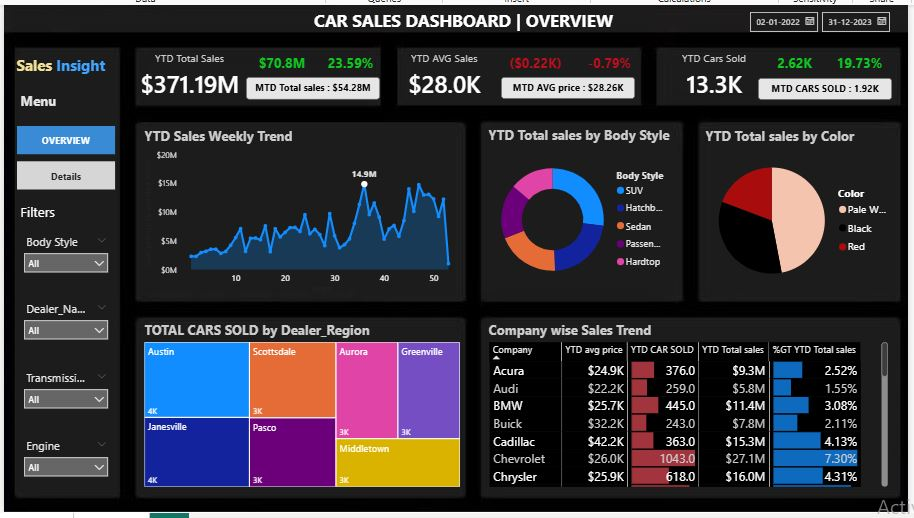

What the dashboard file says about the page in this screenshot:
{"tool":"powerbi","page":{"name":"OVERVIEW","canvas":[1280,720],"ordinal":0},"visuals":[{"type":"card","title":"YTD Total Sales ","fields":{"Values":["car_data.YTDd Total sales"]},"box":[184.7,65.3,157.7,73.9],"z":0},{"type":"card","fields":{"Values":["car_data.Sales Difference"]},"box":[352.9,65.2,82.2,36.9],"z":1000},{"type":"card","fields":{"Values":["car_data.YOY Sales Gowth"]},"box":[449.3,65.2,83.6,36.9],"z":2000},{"type":"card","fields":{"Values":["car_data.MTD KPI"]},"box":[342.4,102.3,190.4,32],"z":3000},{"type":"card","title":"YTD AVG Sales ","fields":{"Values":["car_data.YTD avg price"]},"box":[544.3,65.5,159.6,73.9],"z":4000},{"type":"card","fields":{"Values":["car_data.AVG price diff"]},"box":[707.2,65.2,92.1,36.9],"z":5000},{"type":"card","fields":{"Values":["car_data.YOY AVG PRICE GROWTH"]},"box":[812.1,65.2,92.1,36.9],"z":6000},{"type":"card","fields":{"Values":["car_data.MTD AVG  KPI"]},"box":[704.6,102.3,190.4,31],"z":7000},{"type":"card","title":"YTD Cars Sold  ","fields":{"Values":["car_data.YTD CAR SOLD"]},"box":[926.3,65.3,159.1,73.9],"z":8000},{"type":"card","fields":{"Values":["car_data.CARS SOLD DIFF"]},"box":[1074,65.3,92.3,36.9],"z":9000},{"type":"card","fields":{"Values":["car_data.YOY CARS SOLD GROWTH"]},"box":[1166.5,65.2,92.1,36.9],"z":10000},{"type":"card","fields":{"Values":["car_data.MTD CARS SOLD KPI"]},"box":[1068.3,103.7,190.4,31.3],"z":11000},{"type":"lineChart","title":"YTD Sales Weekly Trend","fields":{"Category":["Calander.WEEK"],"Y":["Sum(car_data.Price ($))","car_data.MAX POINT"]},"box":[194.2,172.9,457.8,240.9],"z":12000},{"type":"donutChart","fields":{"Category":["car_data.Body Style"],"Y":["car_data.YTD Total sales"]},"box":[682,171.3,270.4,240.2],"z":13000},{"type":"treemap","fields":{"Group":["car_data.Dealer_Region"],"Values":["car_data.TOTAL CARS SOLD"]},"box":[194.9,448.5,456.9,240.2],"z":14000},{"type":"tableEx","title":"Company wise Sales Trend","fields":{"Values":["car_data.Company","car_data.YTD avg price","car_data.YTD CAR SOLD","car_data.YTD Total sales1","car_data.YTD Total sales"]},"box":[682,448.5,576.2,240.2],"z":15000},{"type":"textbox","box":[423.3,0,455.2,42],"z":16000},{"type":"pieChart","fields":{"Category":["car_data.Color"],"Y":["car_data.YTD Total sales"]},"box":[989.4,173,278.8,240.2],"z":17000},{"type":"slicer","fields":{"Values":["car_data.Body Style"]},"box":[18.5,319.2,139.4,80.6],"z":18000},{"type":"slicer","fields":{"Values":["car_data.Dealer_Name"]},"box":[18.5,413.2,139.4,80.6],"z":19000},{"type":"slicer","fields":{"Values":["car_data.Transmission"]},"box":[18.5,512.3,139.4,80.6],"z":20000},{"type":"slicer","fields":{"Values":["car_data.Engine"]},"box":[18.5,608.1,139.4,80.6],"z":21000},{"type":"textbox","box":[18.5,275.5,94.1,43.7],"z":22000},{"type":"textbox","box":[18.5,117.6,122.6,42],"z":22002},{"type":"textbox","box":[13.4,65.5,144.5,38.6],"z":22003},{"type":"slicer","fields":{"Values":["Calander.Date"]},"box":[1044.8,0,223.4,42],"z":22004},{"type":"pageNavigator","box":[18.5,171.3,139.4,90.7],"z":22005}]}

Visuals, with their boxes on the page's 1280x720 design canvas (x1, y1, x2, y2). These are canvas units, not pixel positions in the 914x518 screenshot, which may show the page scaled, cropped or inside an application window:
"YTD Total Sales " card: BBox(185, 65, 342, 139)
card - car_data.Sales Difference: BBox(353, 65, 435, 102)
card - car_data.YOY Sales Gowth: BBox(449, 65, 533, 102)
card - car_data.MTD KPI: BBox(342, 102, 533, 134)
"YTD AVG Sales " card: BBox(544, 66, 704, 139)
card - car_data.AVG price diff: BBox(707, 65, 799, 102)
card - car_data.YOY AVG PRICE GROWTH: BBox(812, 65, 904, 102)
card - car_data.MTD AVG  KPI: BBox(705, 102, 895, 133)
"YTD Cars Sold  " card: BBox(926, 65, 1085, 139)
card - car_data.CARS SOLD DIFF: BBox(1074, 65, 1166, 102)
card - car_data.YOY CARS SOLD GROWTH: BBox(1166, 65, 1259, 102)
card - car_data.MTD CARS SOLD KPI: BBox(1068, 104, 1259, 135)
"YTD Sales Weekly Trend" lineChart: BBox(194, 173, 652, 414)
donutChart - car_data.Body Style x car_data.YTD Total sales: BBox(682, 171, 952, 412)
treemap - car_data.Dealer_Region x car_data.TOTAL CARS SOLD: BBox(195, 448, 652, 689)
"Company wise Sales Trend" tableEx: BBox(682, 448, 1258, 689)
textbox: BBox(423, 0, 878, 42)
pieChart - car_data.Color x car_data.YTD Total sales: BBox(989, 173, 1268, 413)
slicer - car_data.Body Style: BBox(18, 319, 158, 400)
slicer - car_data.Dealer_Name: BBox(18, 413, 158, 494)
slicer - car_data.Transmission: BBox(18, 512, 158, 593)
slicer - car_data.Engine: BBox(18, 608, 158, 689)
textbox: BBox(18, 276, 113, 319)
textbox: BBox(18, 118, 141, 160)
textbox: BBox(13, 66, 158, 104)
slicer - Calander.Date: BBox(1045, 0, 1268, 42)
pageNavigator: BBox(18, 171, 158, 262)
